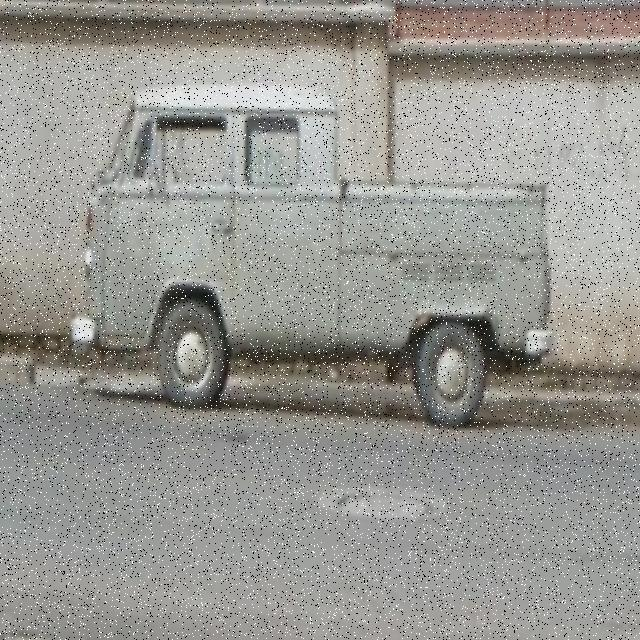cars: (82, 82, 551, 426)
